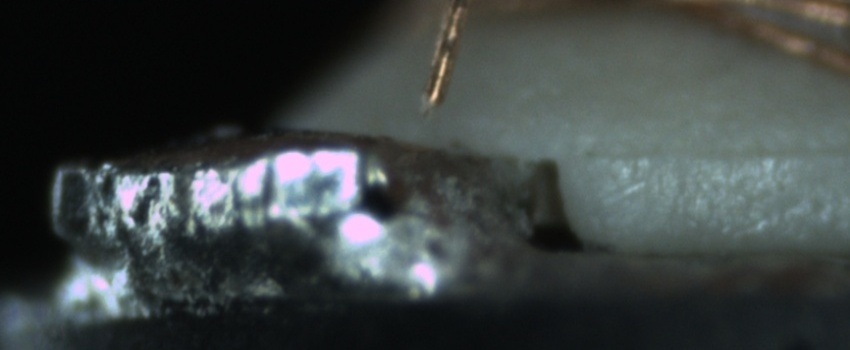DL: (586, 122, 849, 186)
